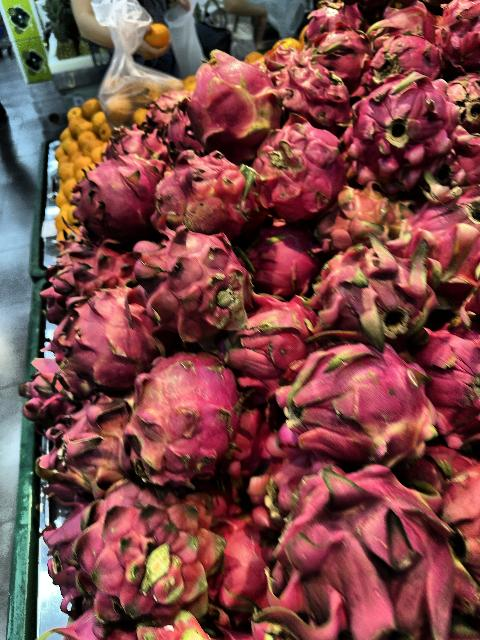buah-naga-belum-matang: (274, 325, 430, 469), (318, 238, 426, 344), (396, 178, 480, 304), (43, 394, 139, 494), (181, 51, 279, 148), (314, 177, 396, 241)
buah-naga-matang: (278, 440, 478, 640), (68, 480, 220, 618), (124, 349, 236, 479), (340, 71, 459, 181), (126, 240, 250, 338), (65, 149, 169, 241), (56, 289, 154, 386), (250, 120, 334, 220), (152, 148, 248, 234), (228, 297, 312, 377), (50, 228, 128, 304), (277, 55, 359, 121), (360, 27, 438, 87), (432, 0, 480, 68)
